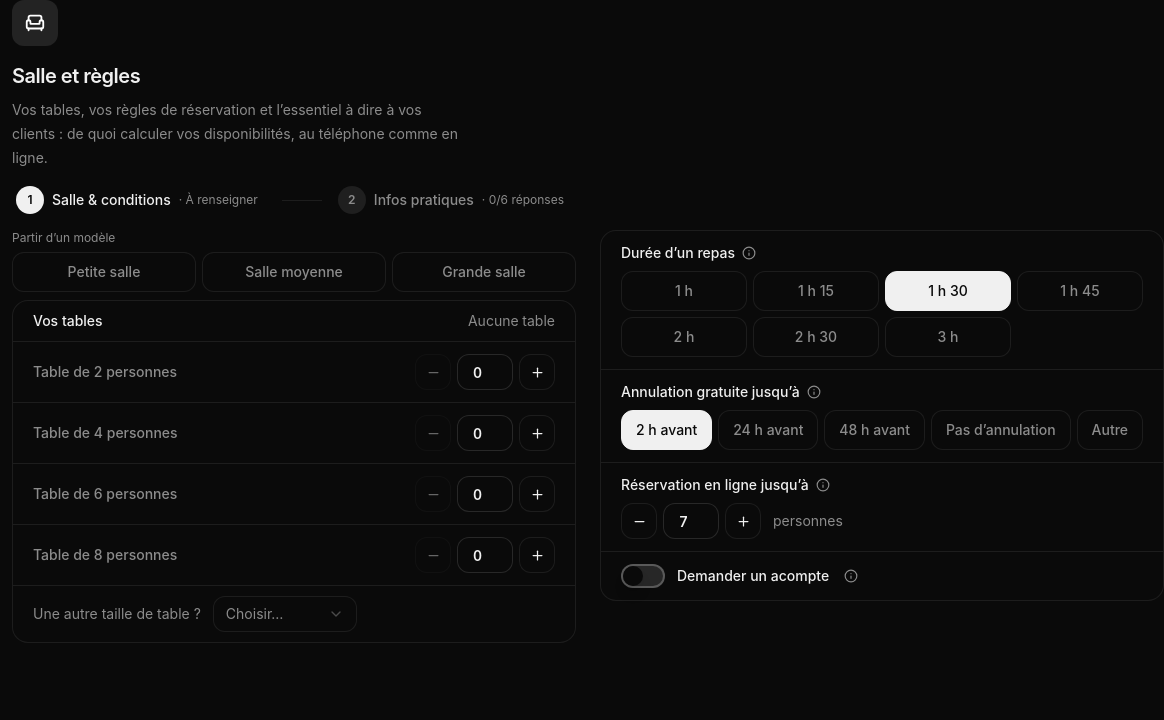
Test case: dessine la salle et calcule tables, couverts et plus grande table
The image size is (1164, 720).
Expected: the button "1 Salle & conditions · À renseigner" is shown, [12, 182, 270, 218]
Click the button named "Une table de 4 en plus" at [537, 433], box [519, 415, 555, 451]
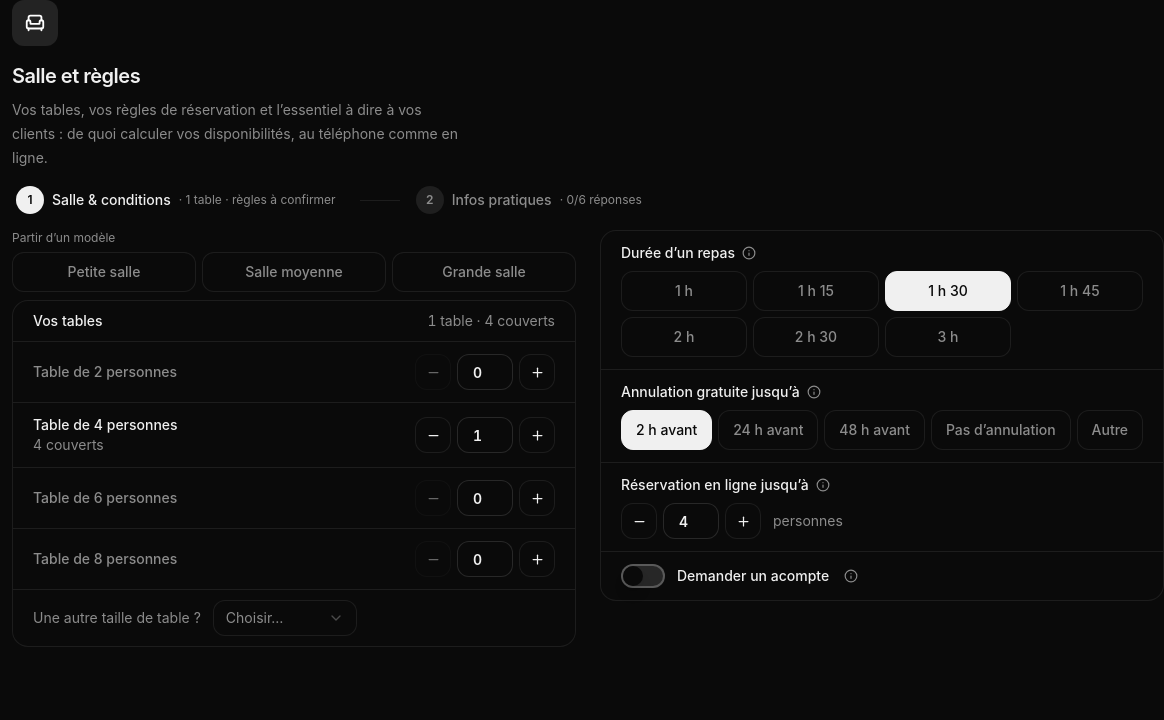
Click the button named "Une table de 4 en plus" at [537, 435], box [519, 417, 555, 453]
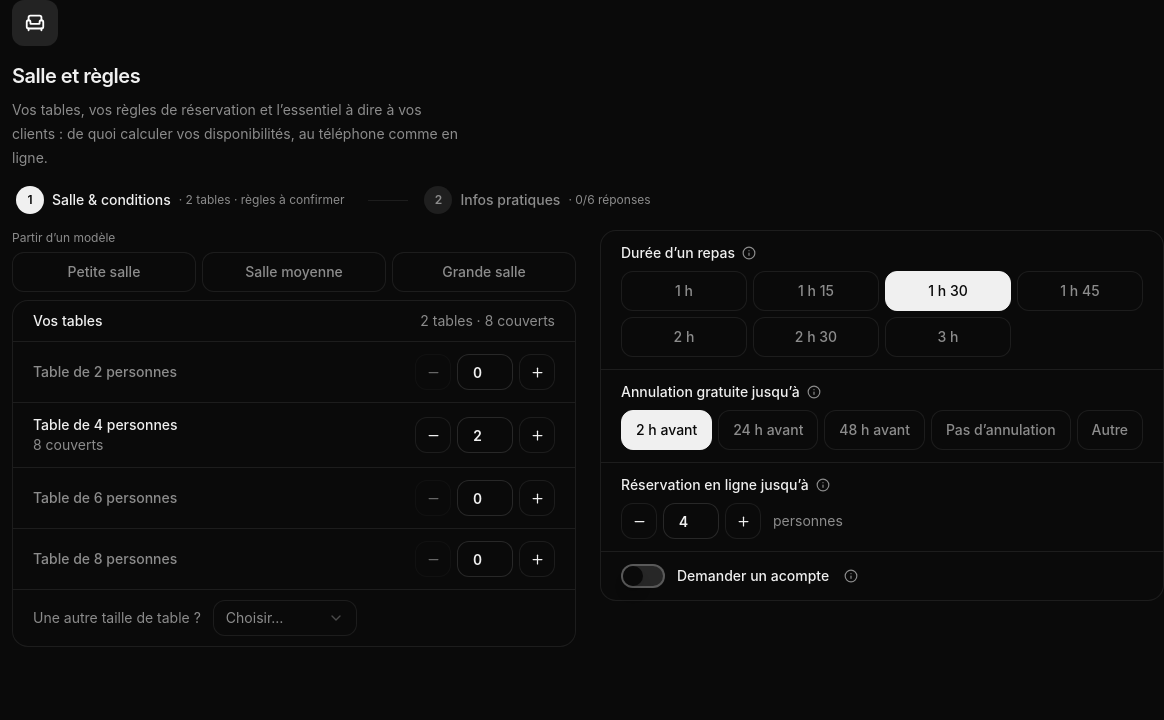
Click the button named "Une table de 6 en plus" at [537, 498], box [519, 480, 555, 516]
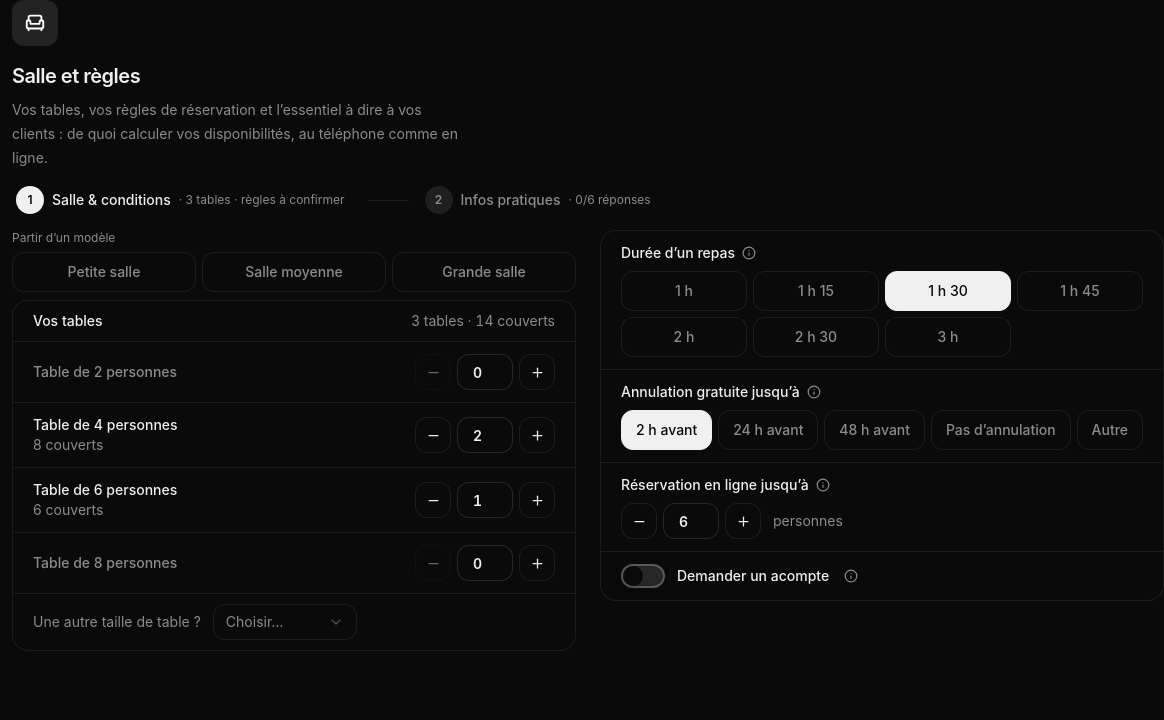
Now the number field named "Nombre maximum de personnes par réservation" holds "6", box [663, 503, 719, 539]
Now the button "1 Salle & conditions · 3 tables · règles à confirmer" is shown, box [12, 182, 356, 218]
